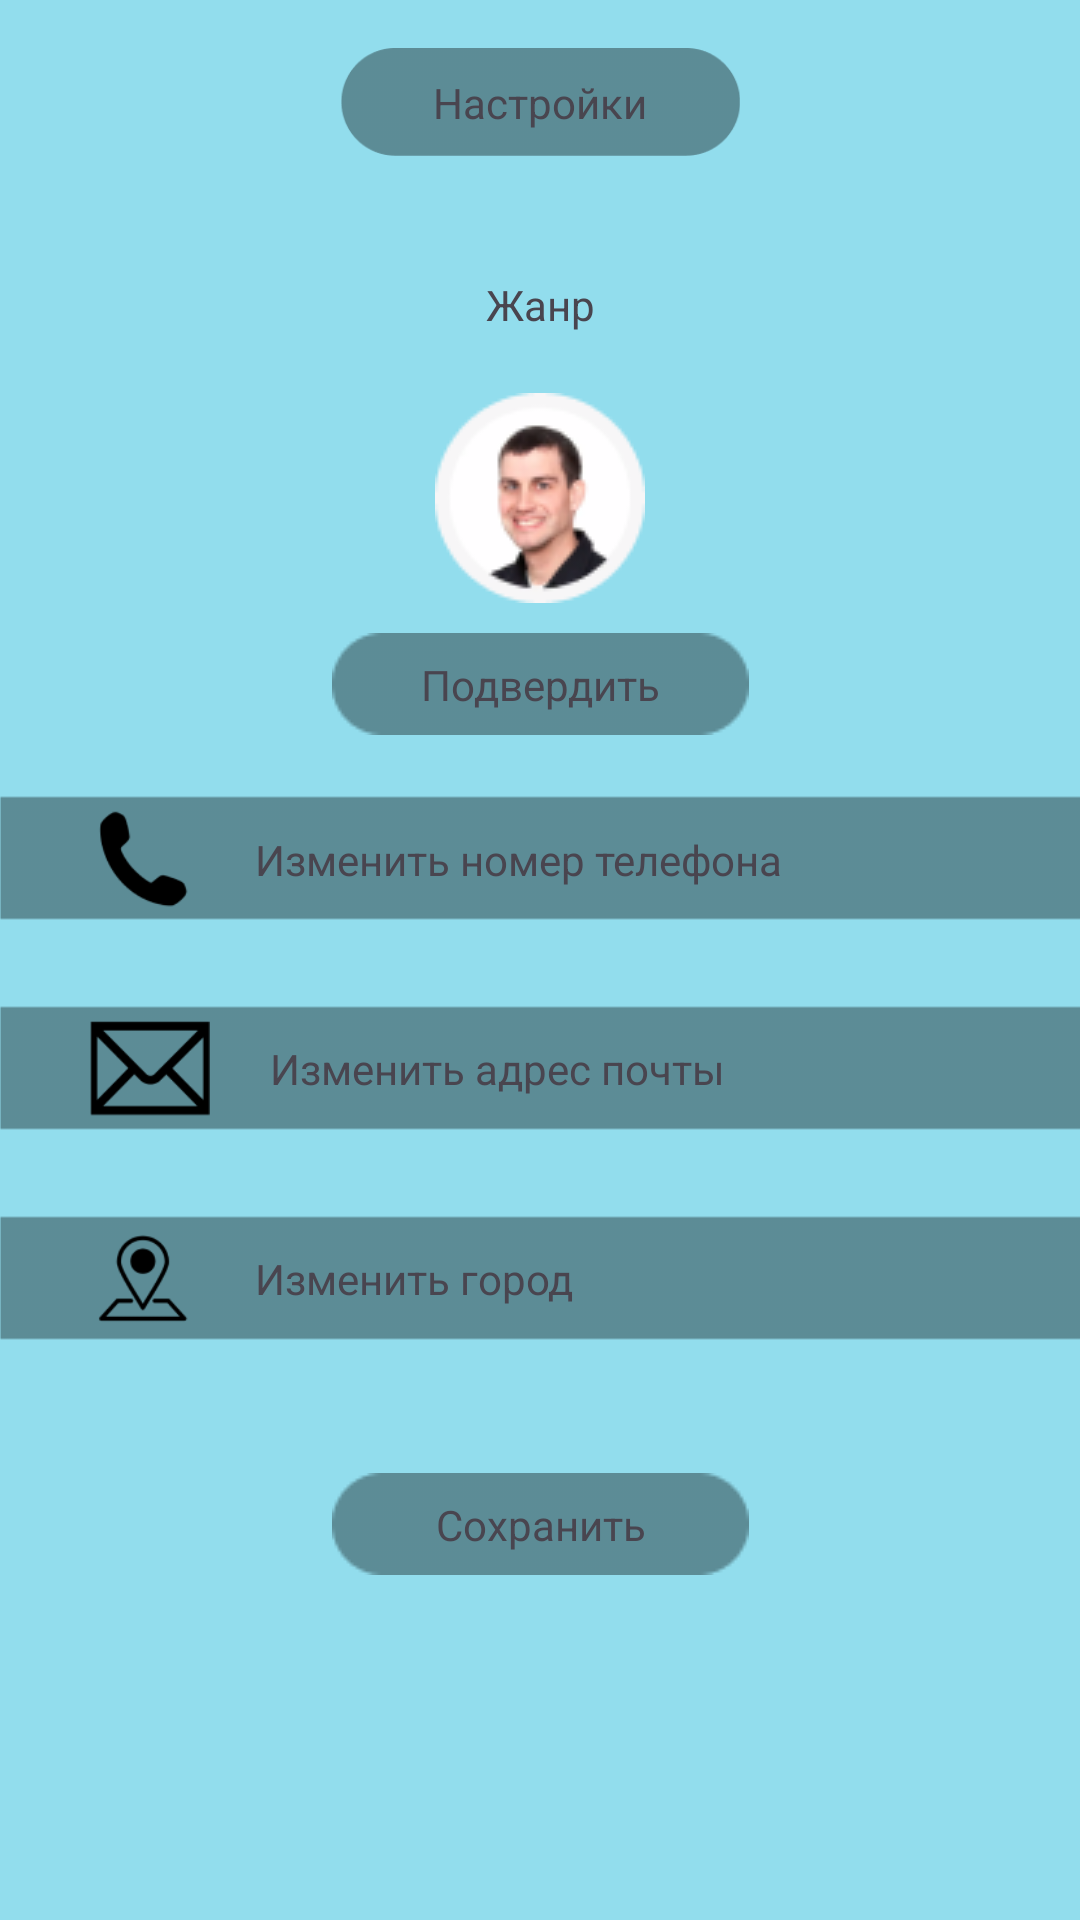

Icons on this 1080px×1920px Android screen, each with the point to tap as point (x, y):
defaultava: point (540, 498)
